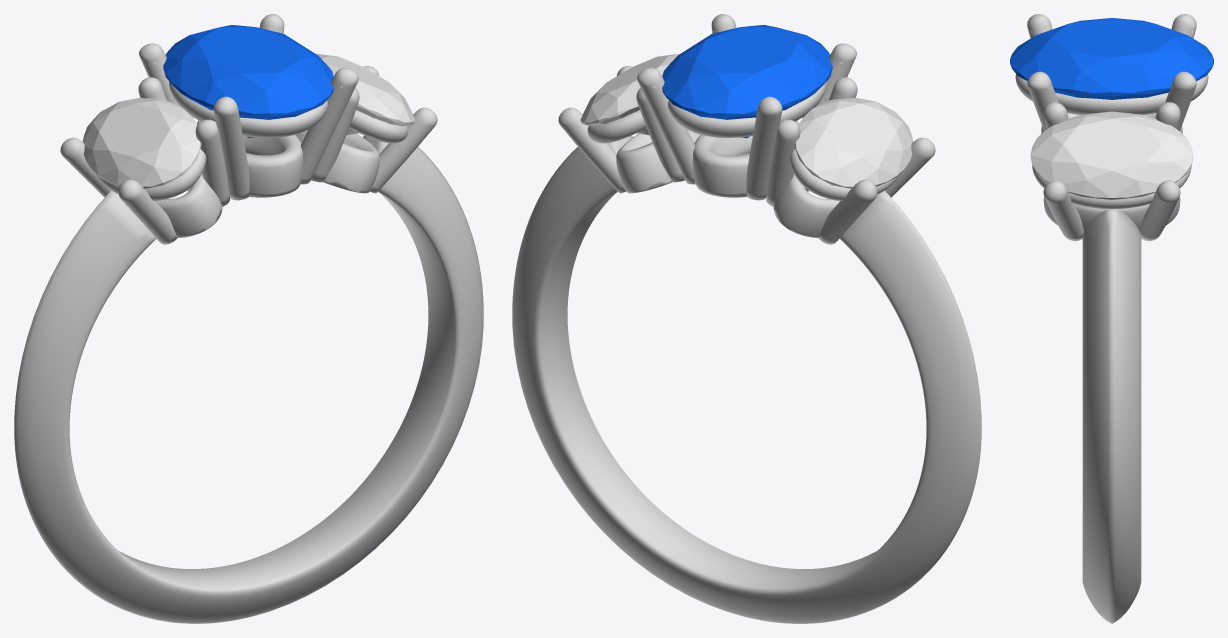
File: bluesapphire-oval-platinum-4prong-knifeedge-3stone.glb
3 views of the same model, side by side, from view 1: azimuth 30°, elevation 25°; view 2: azimuth 150°, elevation 25°; view 3: azimuth 270°, elevation 25° (orthographic).
Visible parts, largest first — view 1: metal, stone, side.001, side; view 2: metal, stone, side.001, side; view 3: metal, stone, side.
Boxes of the visible parts, x1,y1,x2,y2 form: metal: [14, 14, 483, 623]; stone: [163, 25, 333, 138]; side.001: [82, 97, 201, 188]; side: [316, 54, 415, 135]; metal: [512, 14, 981, 623]; stone: [662, 25, 832, 138]; side.001: [794, 97, 913, 188]; side: [580, 54, 679, 135]; metal: [1015, 14, 1208, 623]; stone: [1010, 18, 1213, 99]; side: [1030, 111, 1193, 199].
Size of the model in its own units: 20.1 by 23.2 by 7.64.
